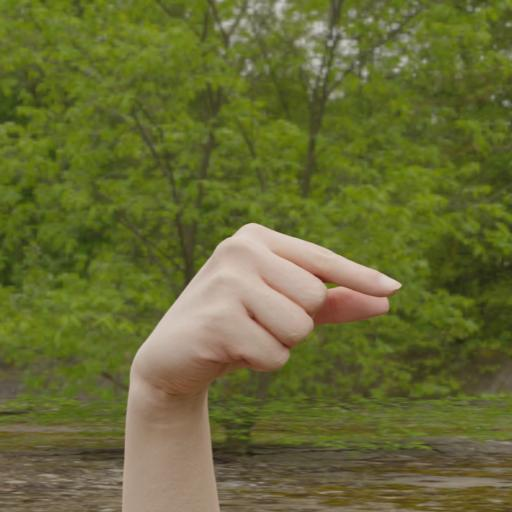G: (107, 198, 419, 476)
